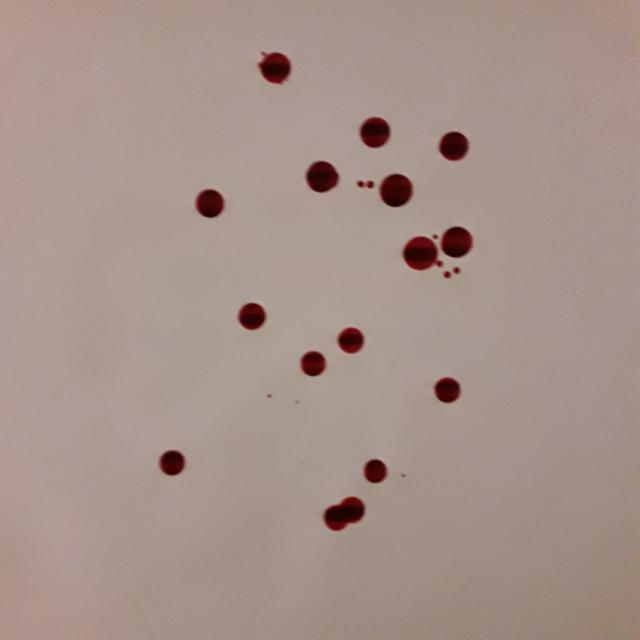wound: (313, 450, 402, 553), (386, 220, 488, 288), (178, 176, 246, 242), (242, 43, 310, 91), (430, 107, 482, 168), (292, 152, 348, 208), (357, 168, 418, 215), (420, 368, 482, 413), (146, 437, 197, 490), (346, 116, 411, 156), (233, 294, 283, 340), (289, 350, 339, 390), (331, 322, 383, 356)
